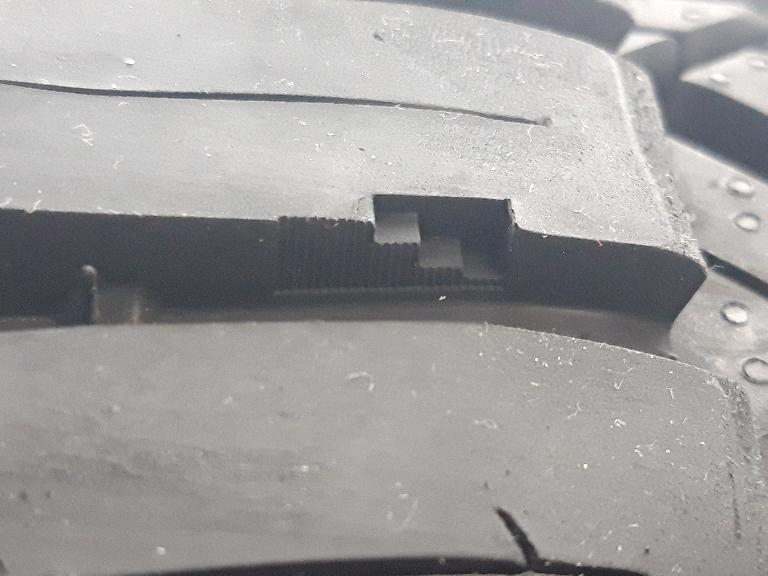temoin:75: (317, 184, 528, 305)
